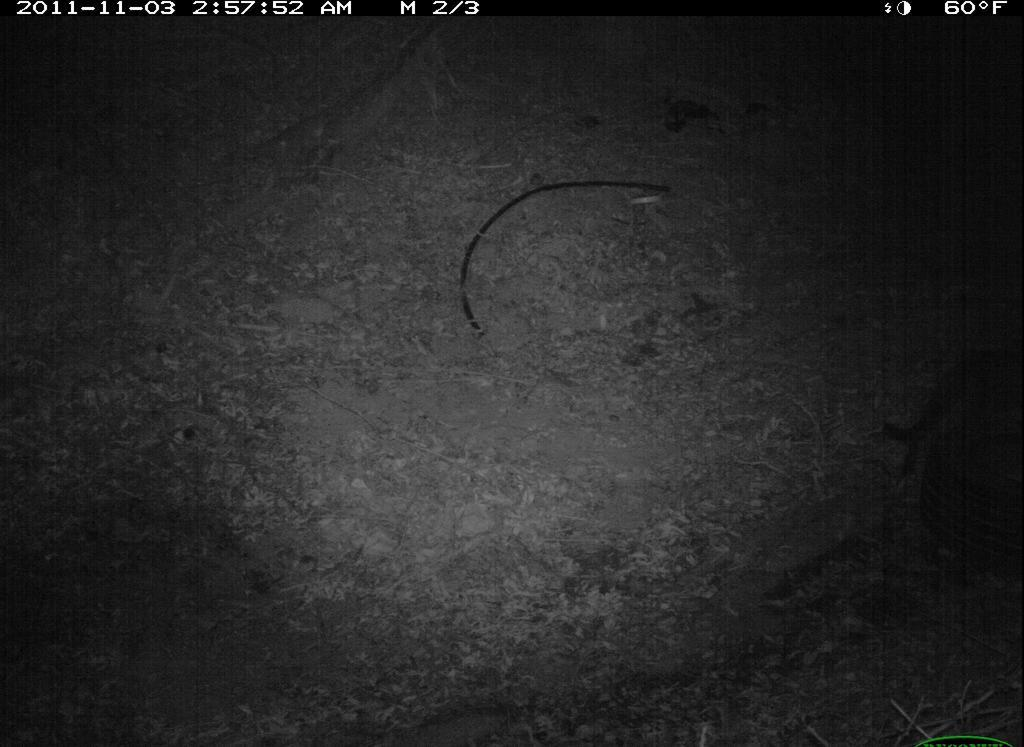cat: (872, 343, 1021, 481)
